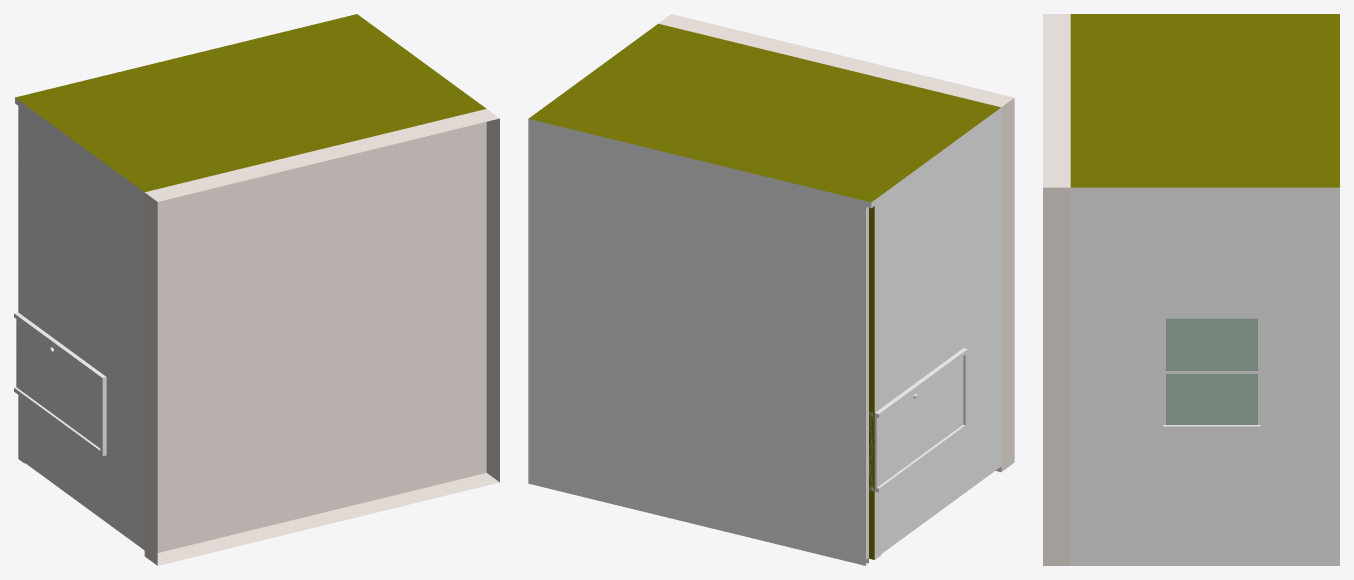
File: room06.obj
3 renders of one model, left to right at view 1: azimuth 30°, elevation 25°; view 2: azimuth 150°, elevation 25°; view 3: azimuth 270°, elevation 25°, orthographic. The views are drawn at different scales.
Visible parts, largest first — view 1: room06; view 2: room06; view 3: room06.
Boxes of the visible parts, x1=… form: room06: x1=14, y1=14, x2=499, y2=565; room06: x1=528, y1=14, x2=1014, y2=565; room06: x1=1043, y1=14, x2=1339, y2=565.
Size of the model in its own units: 186 by 186 by 132.
